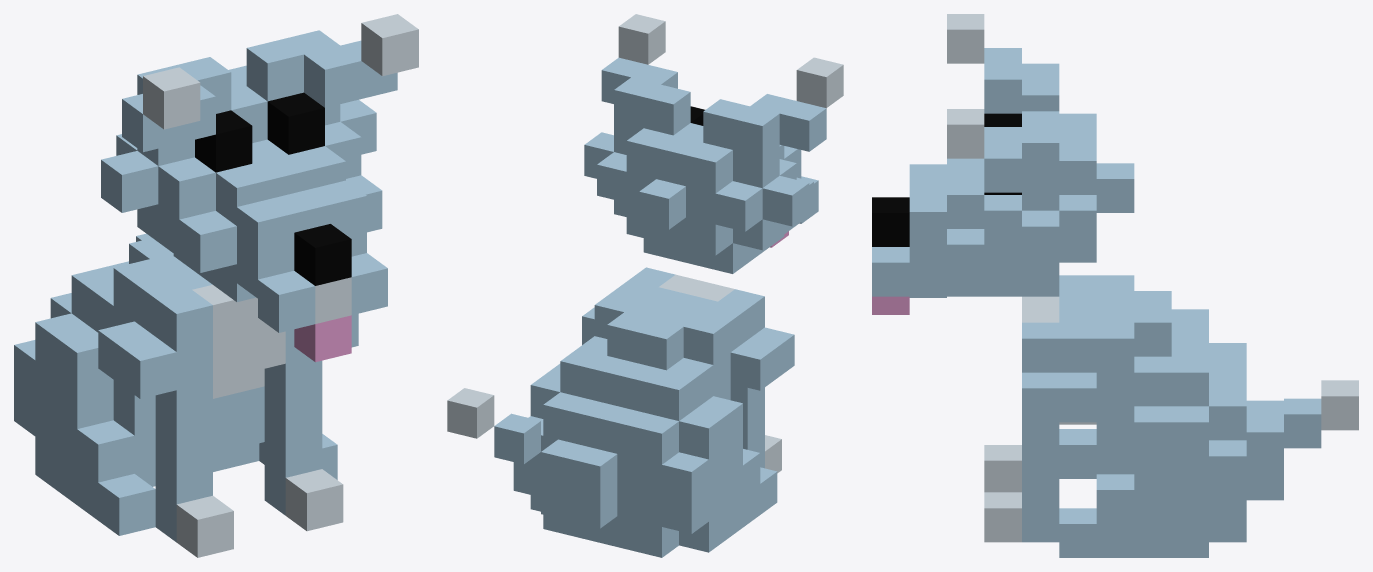
File: Dog.fbx
3 renders of one model, left to right at view 1: azimuth 30°, elevation 25°; view 2: azimuth 150°, elevation 25°; view 3: azimuth 270°, elevation 25°, orthographic. The views are drawn at different scales.
Visible parts, largest first — view 1: DogRBkLeg, DogRLeg, DogFace2, DogBody, DogFace1, DogNose3, DogNose1, DogNose2, DogLLeg, DogChest1, DogLFoot, DogRFoot (+9 smaller); view 2: DogBody, DogFace2, DogHead1, DogRBkLeg, DogRLeg, DogRear, DogLBkLeg, DogChest1, RDogEar3, DogTail2, LDogEar3, RDogEar2 (+8 smaller); view 3: DogBody, DogLBkLeg, DogLLeg, DogFace2, DogHead1, DogNose3, DogNose2, DogFace1, DogRear, DogNose1, DogChest1, DogHead2 (+13 smaller).
Boxes of the visible parts, x1,y1,x2,y2 form: DogRBkLeg: [14, 313, 155, 535]; DogRLeg: [98, 274, 212, 542]; DogFace2: [101, 30, 376, 271]; DogBody: [50, 238, 264, 486]; DogFace1: [158, 92, 361, 286]; DogNose3: [179, 146, 382, 301]; DogNose1: [258, 224, 387, 332]; DogNose2: [237, 180, 366, 298]; DogLLeg: [264, 313, 358, 515]; DogChest1: [171, 269, 285, 398]; DogLFoot: [285, 469, 343, 531]; DogRFoot: [176, 495, 233, 557]; DogBody: [543, 292, 730, 557]; DogFace2: [584, 77, 809, 273]; DogHead1: [597, 128, 762, 255]; DogRBkLeg: [662, 396, 777, 552]; DogRLeg: [701, 289, 794, 468]; DogRear: [541, 439, 617, 528]; DogLBkLeg: [513, 363, 560, 511]; DogChest1: [642, 274, 734, 313]; RDogEar3: [796, 57, 843, 108]; DogTail2: [447, 388, 494, 438]; LDogEar3: [618, 14, 665, 64]; RDogEar2: [779, 101, 826, 151]; DogBody: [1096, 275, 1246, 542]; DogLBkLeg: [1059, 406, 1246, 557]; DogLLeg: [1022, 322, 1096, 542]; DogFace2: [1022, 63, 1059, 296]; DogHead1: [1059, 113, 1096, 262]; DogNose3: [947, 158, 984, 296]; DogNose2: [909, 164, 946, 297]; DogFace1: [984, 113, 1021, 296]; DogRear: [1246, 400, 1283, 500]; DogNose1: [872, 197, 909, 296]; DogChest1: [1022, 291, 1096, 424]; DogHead2: [1096, 163, 1134, 212].
Size of the model in its own units: 7 by 13 by 13.
